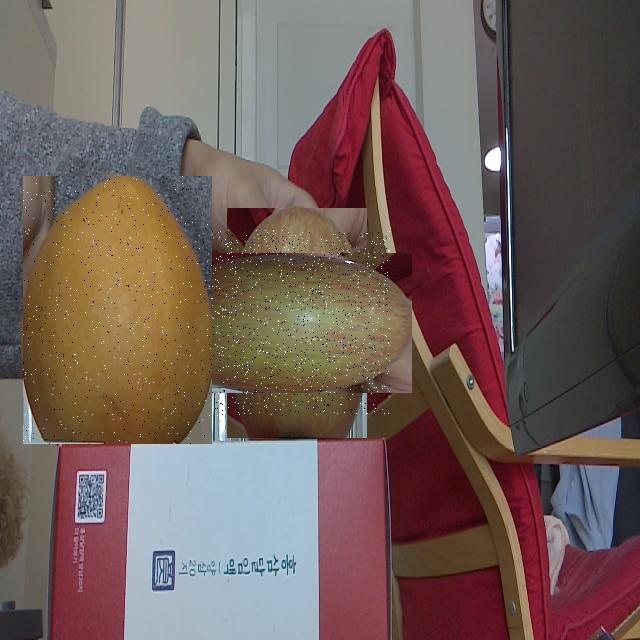apple: (204, 230, 390, 416)
pear: (23, 176, 212, 444)
